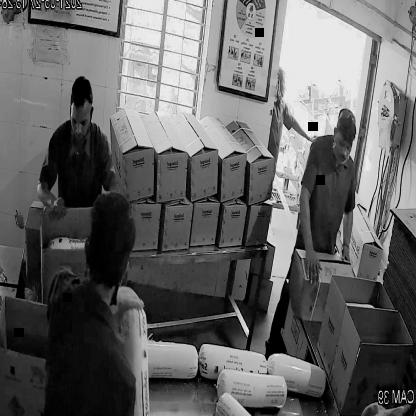no_goggles: (64, 104, 96, 135), (329, 133, 358, 157)
